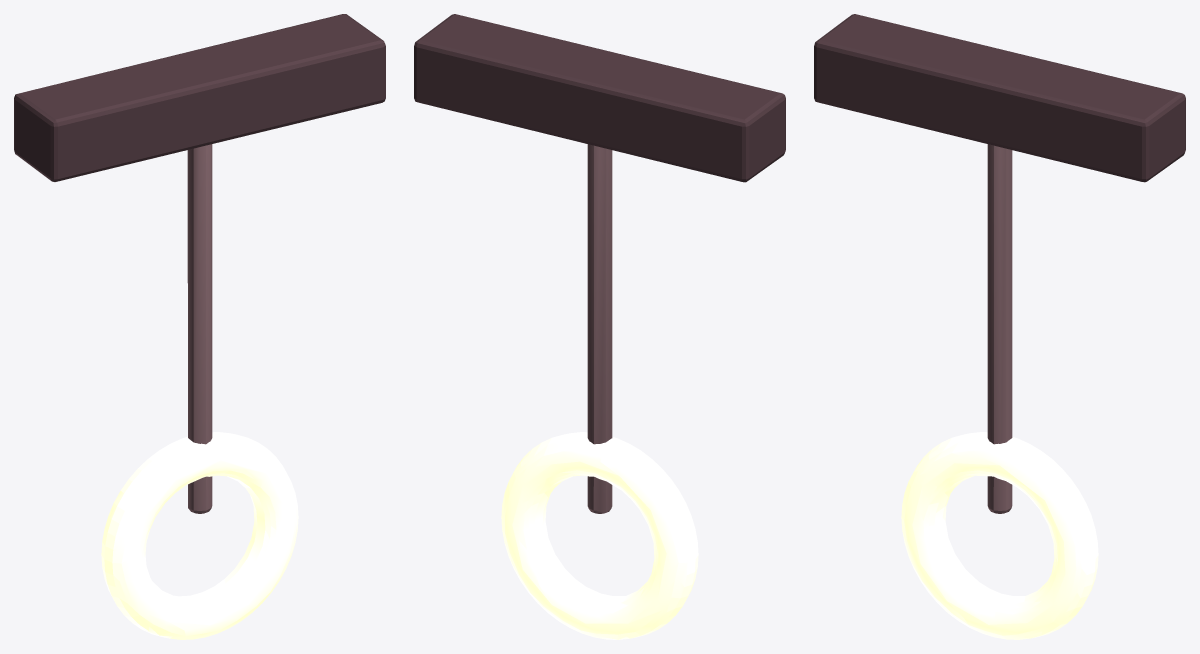
Rendered from SM_Schlachthof_Hook_LOD1.fbx.
3 renders of one model, left to right at view 1: azimuth 30°, elevation 25°; view 2: azimuth 150°, elevation 25°; view 3: azimuth 330°, elevation 25°, orthographic.
Parts seen in each view (by area): view 1: SM_Schlachthof_Hook_LOD1; view 2: SM_Schlachthof_Hook_LOD1; view 3: SM_Schlachthof_Hook_LOD1.
Boxes of the visible parts, x1,y1,x2,y2 form: SM_Schlachthof_Hook_LOD1: [14, 14, 385, 639]; SM_Schlachthof_Hook_LOD1: [414, 14, 785, 639]; SM_Schlachthof_Hook_LOD1: [814, 14, 1185, 639].
Size of the model in its own units: 1.4 by 2.28 by 0.3.
